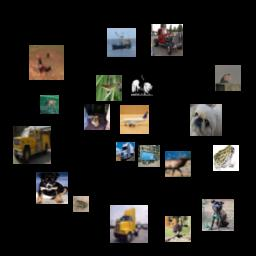airplane: (120, 105, 149, 134)
bird: (29, 45, 64, 80), (165, 216, 191, 242), (96, 75, 122, 101), (215, 65, 241, 91)
cat: (84, 104, 110, 130)
deer: (165, 151, 191, 177), (40, 95, 59, 114)
dog: (190, 104, 222, 136), (202, 199, 234, 231), (36, 172, 68, 204)
frog: (213, 145, 239, 171), (73, 196, 89, 212)
ship: (107, 28, 136, 57)
truck: (110, 205, 148, 243), (13, 126, 51, 164), (151, 24, 183, 56), (138, 145, 160, 167), (116, 142, 135, 161)
